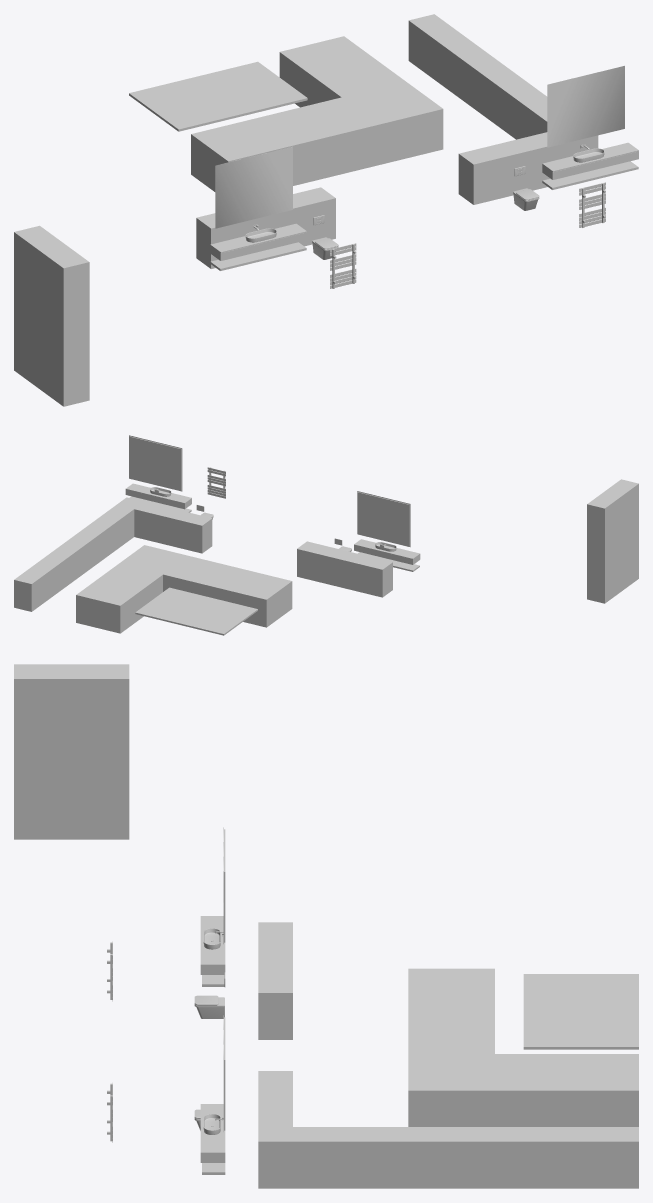
Rendered from RB05__Storey__GroundFloor__ProposedFixtures__MeshModel__.glb.
3 renders of one model, top to bottom at view 1: azimuth 30°, elevation 25°; view 2: azimuth 150°, elevation 25°; view 3: azimuth 270°, elevation 25°, orthographic. The views are drawn at different scales.
Parts seen in each view (by area): view 1: 27__ProposedBuilding__Fixtures::Default, 27__ProposedBuilding__Fixtures::MAT140__Mirror__ClearDefault; view 2: 27__ProposedBuilding__Fixtures::Default; view 3: 27__ProposedBuilding__Fixtures::Default.
Boxes of the visible parts, box(x1,y1,x2,y2) form: 27__ProposedBuilding__Fixtures::Default: box(14, 14, 638, 406); 27__ProposedBuilding__Fixtures::MAT140__Mirror__ClearDefault: box(215, 65, 624, 228); 27__ProposedBuilding__Fixtures::Default: box(14, 435, 638, 635); 27__ProposedBuilding__Fixtures::Default: box(14, 664, 638, 1188).
Size of the model in its own units: 15.24 by 3.1 by 10.84.
Materials: 2 (1 with a texture image).
